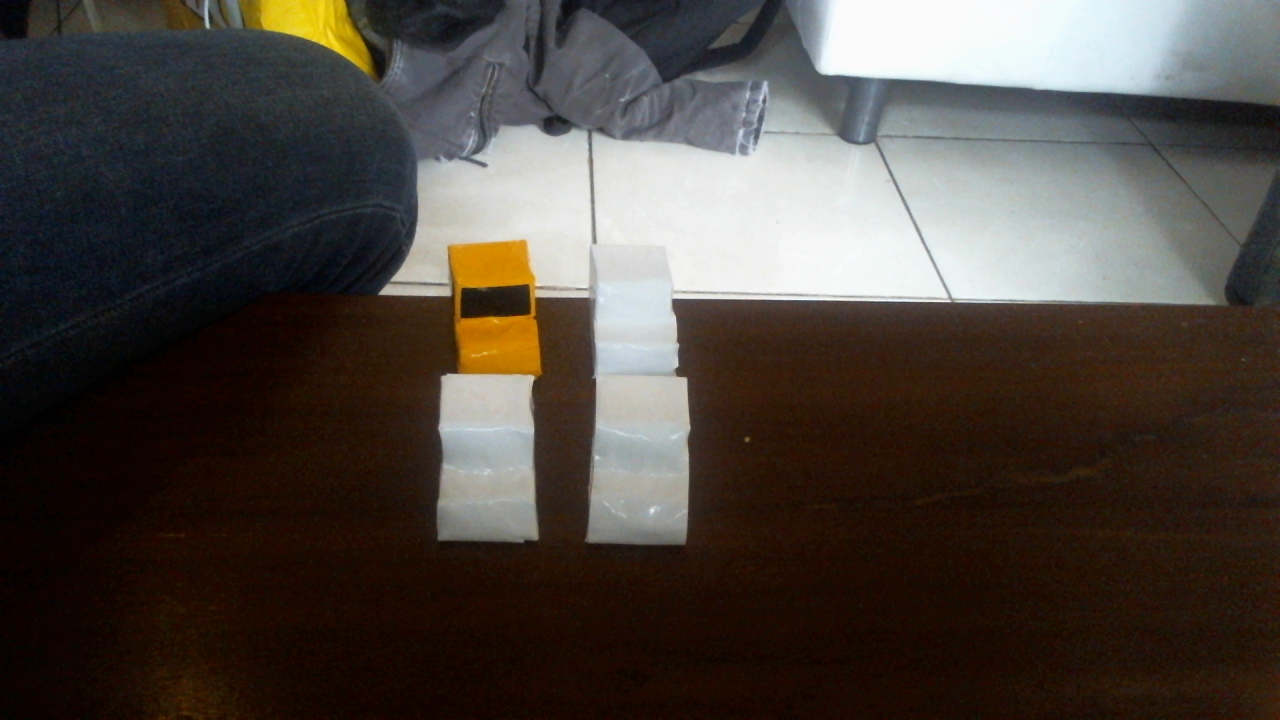Kijang Kapsul: (408, 217, 578, 378)
